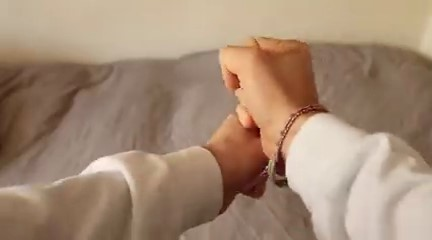G: (193, 18, 333, 228)
